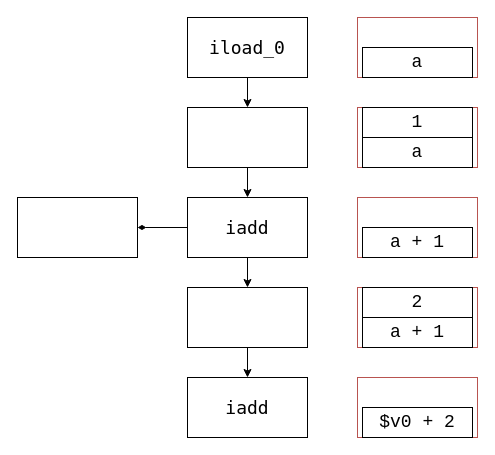
The diagram is 495 pixels wide and 455 high, and some of its shapes have lost their labels. Each missing label, with the box of its shape:
$v0 = a + 1: (16, 196, 138, 258)
iconst_1: (186, 106, 308, 168)
iconst_2: (186, 286, 308, 348)
